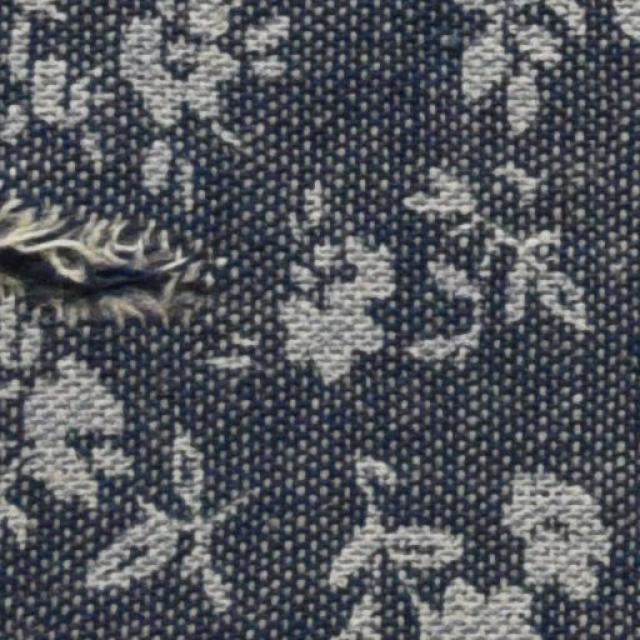Snag: (0, 191, 215, 346)
